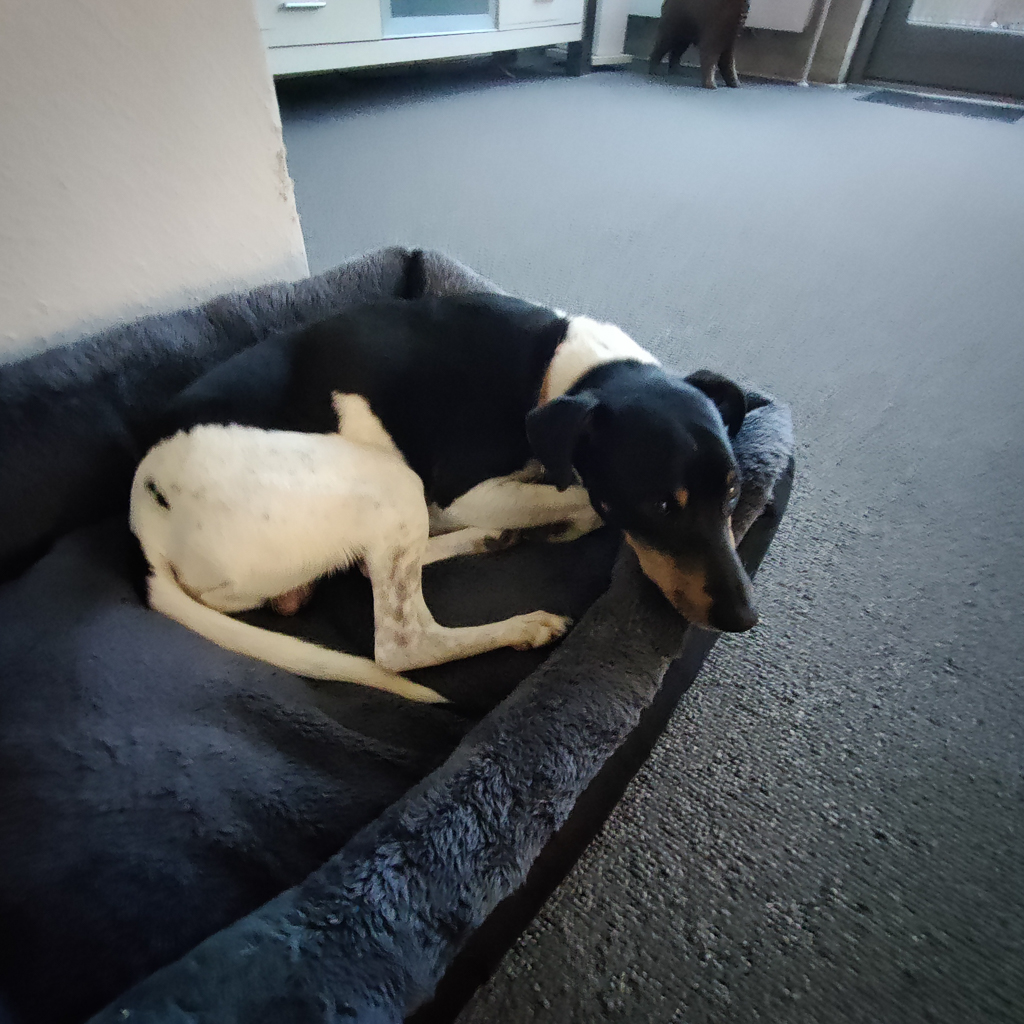Cattle: (631, 0, 764, 100)
Dog: (98, 256, 780, 763)
